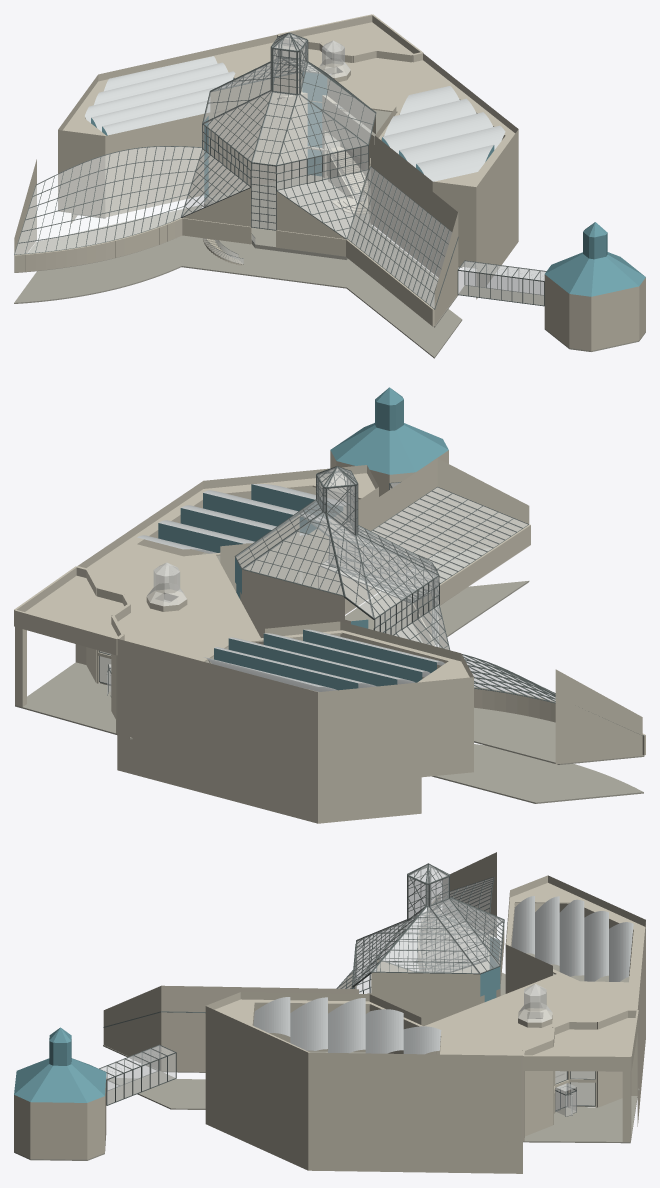
The model's file is MUDAM_R06_ALT_FUAYE_v002_preview.glb.
3 renders of one model, top to bottom at view 1: azimuth 30°, elevation 25°; view 2: azimuth 150°, elevation 25°; view 3: azimuth 270°, elevation 25°, orthographic. The views are drawn at different scales.
Visible parts, largest first — view 1: P05_ZONE_LM1_GALLERIES_FOYER, P05_MAIN_ROOF_DECK, P05_GALLERY_HALL_WEST1, P05_MAIN_ATRIUM_BASE_3, P05_EAST_HIGH_R02_BEFORE, P04_PAV_WALL_ENVELOPE, P05_FRONT_0, P05_FLOOR_L00_GH, P05_GALLERY_HALL_WEST2, P04_PAV_ROOF_SLOPE, P05_FLOOR_L00_WEST_CAFE, P05_FLOOR_L00_EAST_GARDEN (+20 smaller); view 2: P05_FRONT_9, P05_MAIN_ROOF_DECK, P05_FRONT_10, P05_ZONE_LM1_GALLERIES_FOYER, P05_EAST_HIGH_R02_BEFORE, P05_WEST_END, P05_EAST_END, P05_GALLERY_HALL_WEST3, P04_PAV_ROOF_SLOPE, P07_CANOPY_PAVING_DISPLAY, P05_FLOOR_L00_WEST_CAFE, P07_CANOPY_SLAB_ENVELOPE (+25 smaller); view 3: P05_FRONT_1, P05_MAIN_ROOF_DECK, P05_FRONT_0, P04_PAV_WALL_ENVELOPE, P05_EAST_HIGH_R02_BEFORE, P05_EAST_END, P04_PAV_ROOF_SLOPE, P07_CANOPY_PAVING_DISPLAY, P06_HIGH_EAVE_UPSTAND_5, P07_CANOPY_SLAB_ENVELOPE, P05_WEST_END, P07_ENTRY_RETURN_1 (+15 smaller).
Part boxes in pixels (<box>): P05_ZONE_LM1_GALLERIES_FOYER: <box>14,235,462,358</box>; P05_MAIN_ROOF_DECK: <box>62,42,517,186</box>; P05_GALLERY_HALL_WEST1: <box>105,112,212,217</box>; P05_MAIN_ATRIUM_BASE_3: <box>208,93,307,196</box>; P05_EAST_HIGH_R02_BEFORE: <box>370,142,457,277</box>; P04_PAV_WALL_ENVELOPE: <box>544,274,645,350</box>; P05_FRONT_0: <box>476,129,518,299</box>; P05_FLOOR_L00_GH: <box>204,176,370,257</box>; P05_GALLERY_HALL_WEST2: <box>58,130,105,217</box>; P04_PAV_ROOF_SLOPE: <box>545,252,645,296</box>; P05_FLOOR_L00_WEST_CAFE: <box>14,204,202,272</box>; P05_FLOOR_L00_EAST_GARDEN: <box>348,224,457,327</box>; P05_FRONT_9: <box>117,639,317,823</box>; P05_MAIN_ROOF_DECK: <box>86,473,473,701</box>; P05_FRONT_10: <box>318,682,421,823</box>; P05_ZONE_LM1_GALLERIES_FOYER: <box>432,581,643,803</box>; P05_EAST_HIGH_R02_BEFORE: <box>319,458,437,614</box>; P05_WEST_END: <box>555,669,642,764</box>; P05_EAST_END: <box>437,458,529,552</box>; P05_GALLERY_HALL_WEST3: <box>421,677,473,777</box>; P04_PAV_ROOF_SLOPE: <box>330,423,448,474</box>; P07_CANOPY_PAVING_DISPLAY: <box>15,662,117,734</box>; P05_FLOOR_L00_WEST_CAFE: <box>474,707,644,764</box>; P07_CANOPY_SLAB_ENVELOPE: <box>25,575,124,637</box>; P05_FRONT_1: <box>308,1052,522,1173</box>; P05_MAIN_ROOF_DECK: <box>207,883,645,1064</box>; P05_FRONT_0: <box>205,1006,308,1170</box>; P04_PAV_WALL_ENVELOPE: <box>14,1077,106,1159</box>; P05_EAST_HIGH_R02_BEFORE: <box>161,985,358,1071</box>; P05_EAST_END: <box>103,986,161,1070</box>; P04_PAV_ROOF_SLOPE: <box>14,1058,106,1102</box>; P07_CANOPY_PAVING_DISPLAY: <box>523,1096,637,1143</box>; P06_HIGH_EAVE_UPSTAND_5: <box>371,972,480,996</box>; P07_CANOPY_SLAB_ENVELOPE: <box>533,1018,635,1055</box>; P05_WEST_END: <box>442,852,496,937</box>; P07_ENTRY_RETURN_1: <box>522,1039,553,1136</box>.
Bounding box in the file's own units: 80.45 × 35.94 × 93.28.
